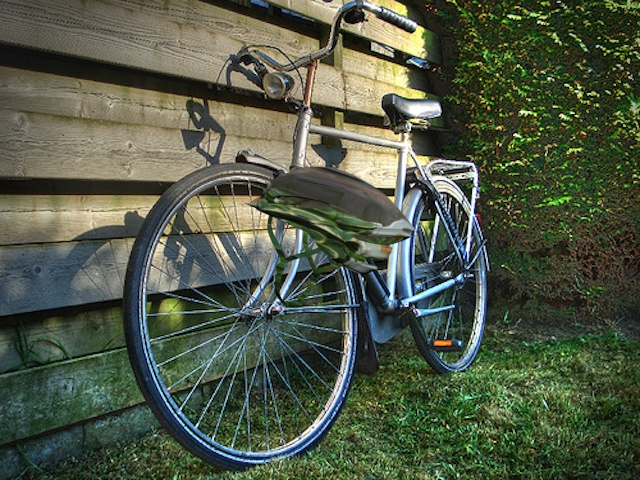bike_helmet: (240, 161, 417, 320)
